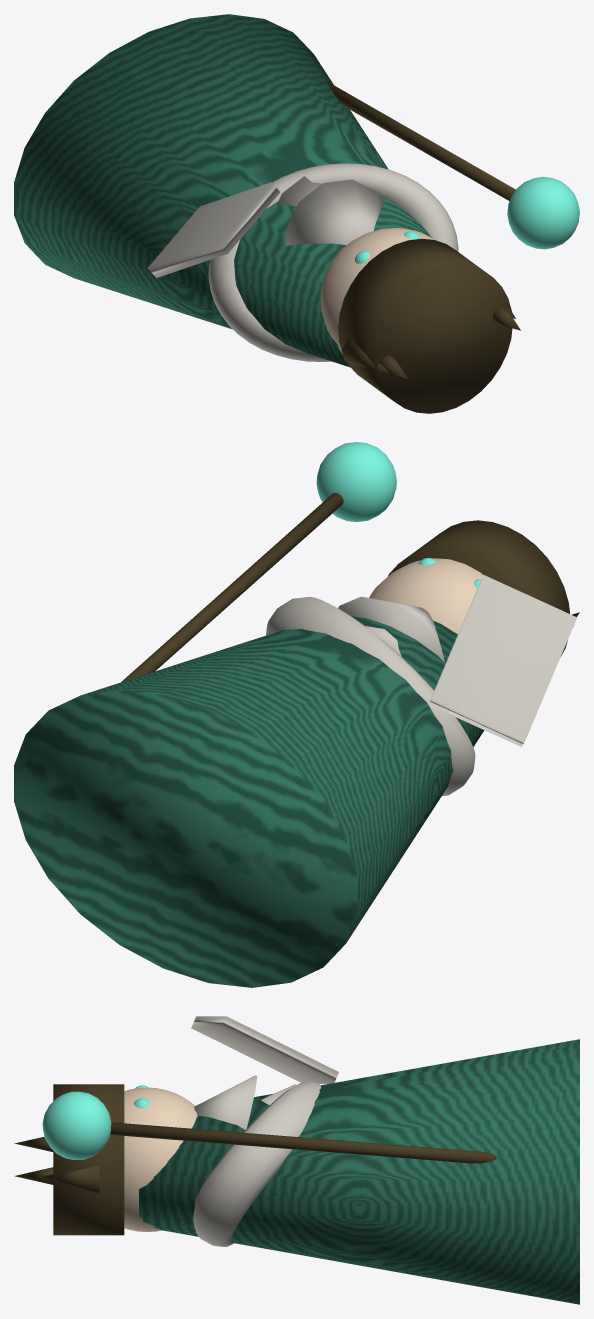
The model's file is 03_enki_var_eremita.obj.
3 renders of one model, top to bottom at view 1: azimuth 30°, elevation 25°; view 2: azimuth 150°, elevation 25°; view 3: azimuth 270°, elevation 25°, orthographic. The views are drawn at different scales.
Parts seen in each view (by area): view 1: Cone, Cylinder, Torus, Cube, Cone.005, Icosphere, Sphere, Cylinder.001, Cone.006, Cone.003; view 2: Cone, Cube, Cylinder, Torus, Icosphere, Sphere, Cylinder.001, Cone.005; view 3: Cone, Torus, Cylinder, Sphere, Cylinder.001, Icosphere, Cube, Cone.005, Cone.001.
Part boxes in pixels (x1,y1,x2,y2): Cone: [14, 14, 431, 367]; Cylinder: [338, 238, 512, 413]; Torus: [208, 163, 458, 361]; Cube: [147, 182, 280, 277]; Cone.005: [285, 179, 384, 246]; Icosphere: [507, 176, 579, 249]; Sphere: [320, 228, 436, 354]; Cylinder.001: [326, 81, 515, 200]; Cone.006: [276, 176, 321, 206]; Cone.003: [342, 338, 388, 373]; Cone: [14, 616, 484, 987]; Cube: [428, 575, 577, 746]; Cylinder: [388, 520, 569, 655]; Torus: [266, 597, 475, 795]; Icosphere: [316, 442, 396, 521]; Sphere: [369, 558, 483, 633]; Cylinder.001: [121, 493, 343, 682]; Cone.005: [338, 596, 444, 661]; Cone: [139, 1039, 579, 1304]; Torus: [193, 1081, 321, 1246]; Cylinder: [53, 1084, 124, 1235]; Sphere: [124, 1087, 197, 1231]; Cylinder.001: [110, 1122, 496, 1163]; Icosphere: [42, 1091, 111, 1159]; Cube: [191, 1016, 338, 1083]; Cone.005: [194, 1075, 257, 1129]; Cone.001: [37, 1165, 99, 1193].
Bounding box in the file's own units: 2.23 × 1.73 × 3.6.
18 materials, 18 textured.
